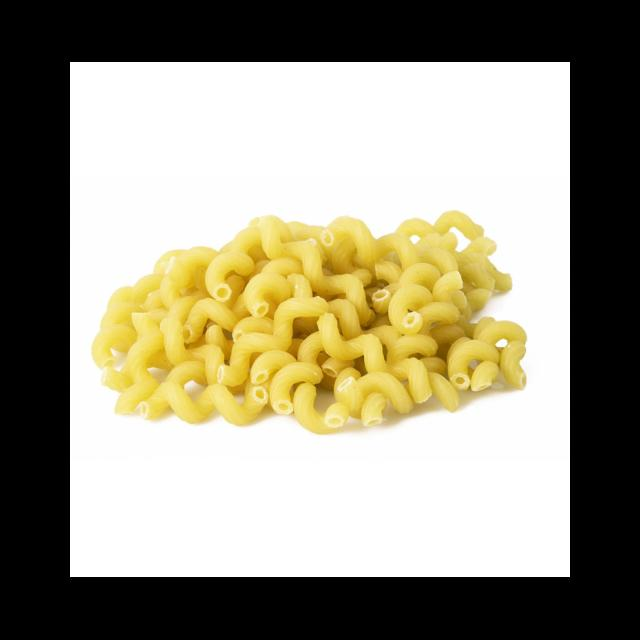food_waste: (87, 166, 570, 461)
